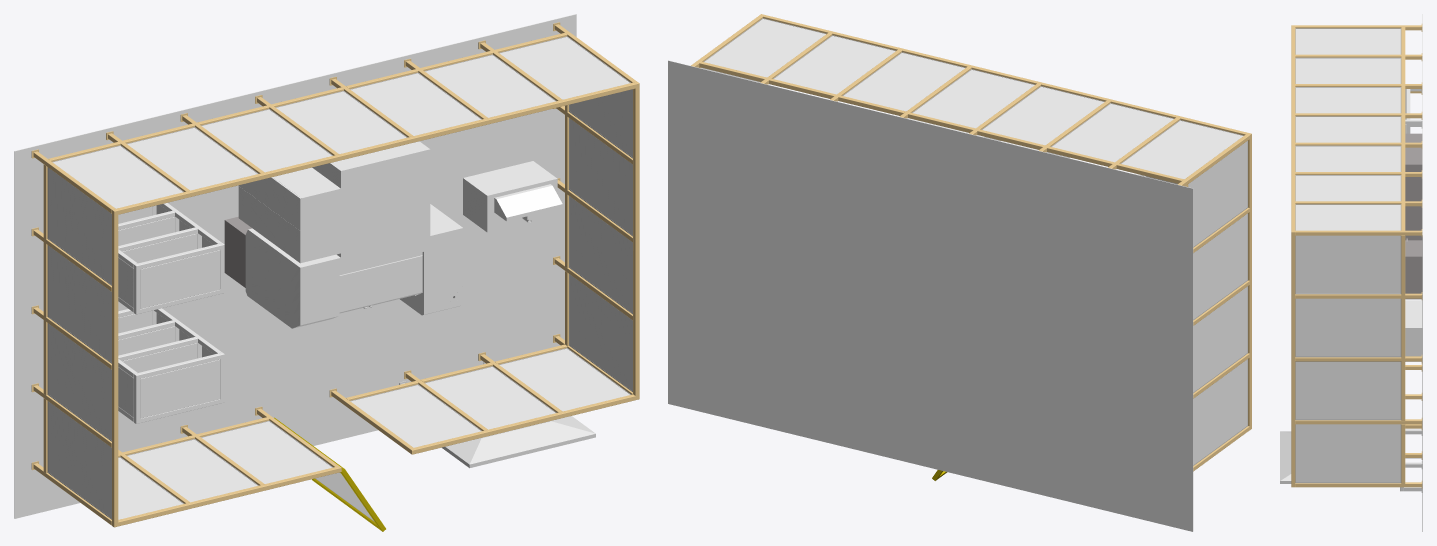
The model's file is jichuang.glb.
3 views of the same model, side by side, from view 1: azimuth 30°, elevation 25°; view 2: azimuth 150°, elevation 25°; view 3: azimuth 270°, elevation 25° (orthographic). The views are drawn at different scales.
Visible parts, largest first — view 1: 地面-1, 围栏(默认_按加工_)-1, 外罩-1, 料仓-支架(默认_按加工_)-1 (×2), 电柜-1, 栅格网-19, 栅格网-2, 栅格网-3, 栅格网-9, 栅格网-15, 栅格网-14, 栅格网-4 (+21 smaller); view 2: 地面-1, 围栏(默认_按加工_)-1, 栅格网-13, 栅格网-20, 栅格网-12, 栅格网-8, 栅格网-7, 栅格网-11, 栅格网-22, 栅格网-3, 栅格网-9, 栅格网-19 (+1 smaller); view 3: 围栏(默认_按加工_)-1, 栅格网-14, 栅格网-4, 栅格网-16, 栅格网-15, 栅格网-12, 栅格网-11, 栅格网-20, 栅格网-7, 栅格网-13, 栅格网-8, 栅格网-22 (+6 smaller).
Boxes of the visible parts, bbox=[...] form: 地面-1: bbox=[14, 14, 576, 518]; 围栏(默认_按加工_)-1: bbox=[31, 22, 639, 527]; 外罩-1: bbox=[245, 141, 463, 328]; 料仓-支架(默认_按加工_)-1 (×2): bbox=[118, 203, 224, 423]; 电柜-1: bbox=[238, 167, 340, 263]; 栅格网-19: bbox=[47, 245, 111, 363]; 栅格网-2: bbox=[47, 323, 111, 441]; 栅格网-3: bbox=[47, 167, 111, 285]; 栅格网-9: bbox=[47, 401, 111, 519]; 栅格网-15: bbox=[569, 196, 632, 314]; 栅格网-14: bbox=[569, 274, 632, 391]; 栅格网-4: bbox=[569, 118, 632, 236]; 地面-1: bbox=[668, 60, 1193, 531]; 围栏(默认_按加工_)-1: bbox=[691, 14, 1251, 471]; 栅格网-13: bbox=[842, 52, 965, 111]; 栅格网-20: bbox=[703, 18, 826, 77]; 栅格网-12: bbox=[1121, 120, 1243, 179]; 栅格网-8: bbox=[1051, 103, 1173, 162]; 栅格网-7: bbox=[773, 35, 895, 94]; 栅格网-11: bbox=[912, 69, 1034, 128]; 栅格网-22: bbox=[981, 86, 1104, 145]; 栅格网-3: bbox=[1188, 141, 1247, 247]; 栅格网-9: bbox=[1193, 359, 1247, 465]; 栅格网-19: bbox=[1193, 213, 1247, 319]; 围栏(默认_按加工_)-1: bbox=[1291, 24, 1422, 488]; 栅格网-14: bbox=[1295, 424, 1401, 483]; 栅格网-4: bbox=[1295, 298, 1401, 357]; 栅格网-16: bbox=[1295, 235, 1401, 294]; 栅格网-15: bbox=[1295, 361, 1401, 420]; 栅格网-12: bbox=[1295, 28, 1401, 54]; 栅格网-11: bbox=[1295, 116, 1401, 142]; 栅格网-20: bbox=[1295, 204, 1401, 230]; 栅格网-7: bbox=[1295, 175, 1401, 201]; 栅格网-13: bbox=[1295, 145, 1401, 171]; 栅格网-8: bbox=[1295, 57, 1401, 83]; 栅格网-22: bbox=[1295, 87, 1401, 113].
Bounding box in the file's own units: 8 × 5.32 × 2.18.
